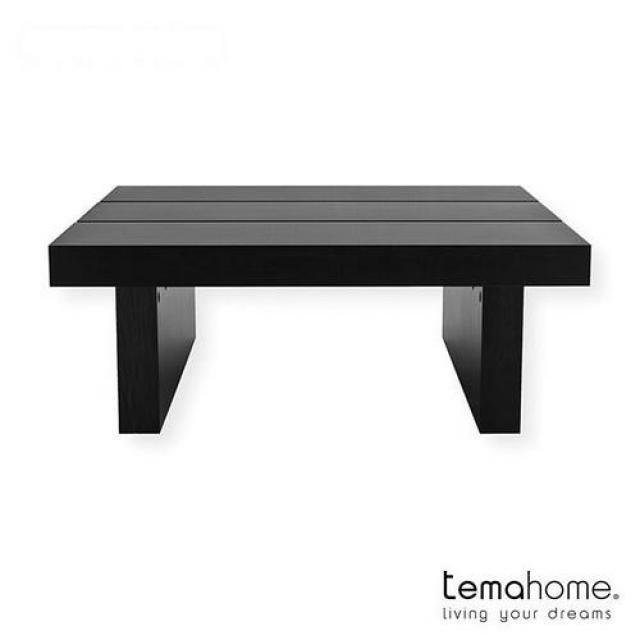table: (48, 184, 590, 434)
